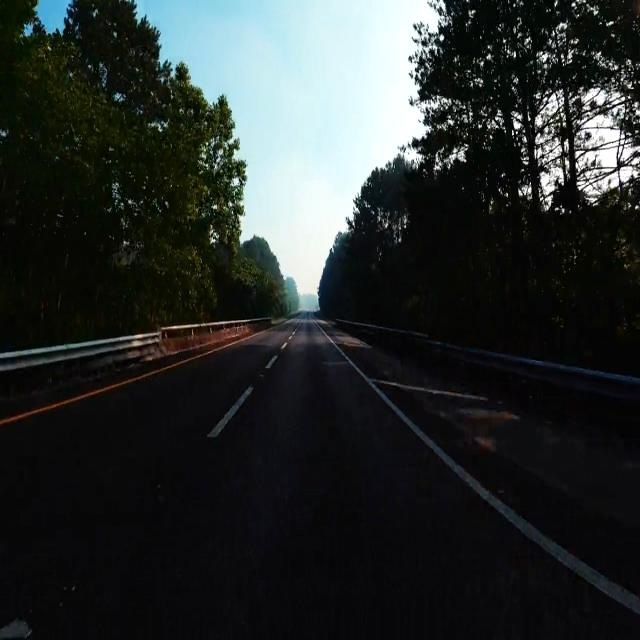lane: (345, 357, 640, 614), (208, 387, 252, 438), (265, 356, 278, 368)
road: (3, 319, 639, 638)
